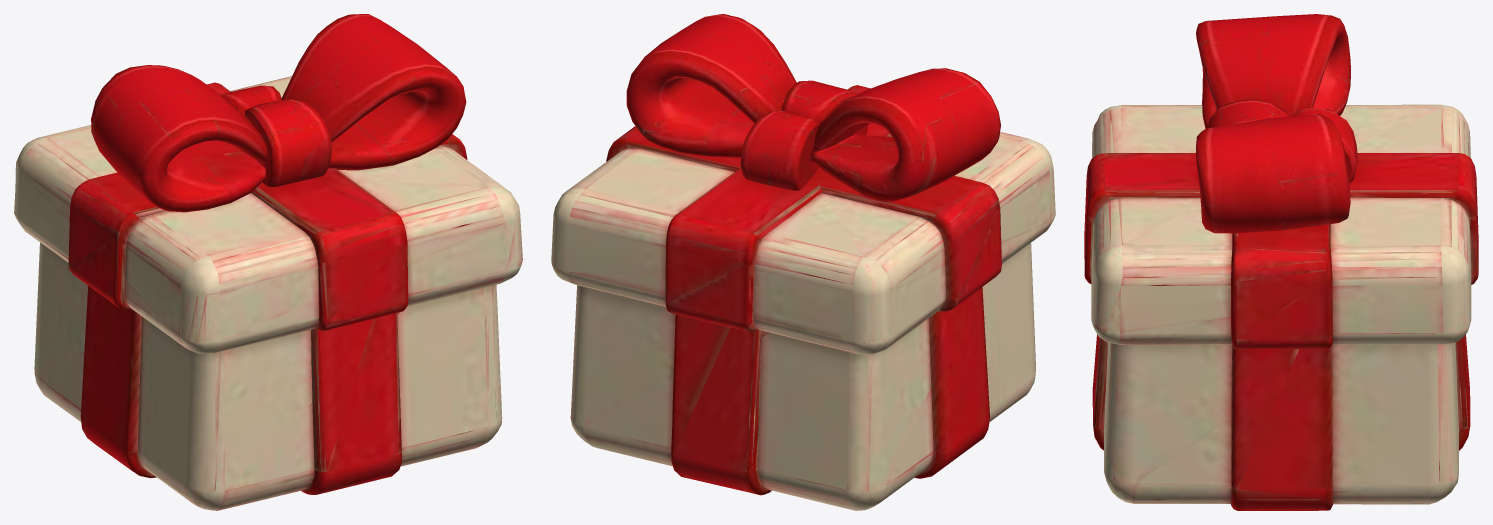
Rendered from gift.glb.
3 views of the same model, side by side, from view 1: azimuth 30°, elevation 25°; view 2: azimuth 150°, elevation 25°; view 3: azimuth 270°, elevation 25° (orthographic).
Size of the model in its own units: 0.9964 by 0.9989 by 0.9598.
1 material, 1 textured.
